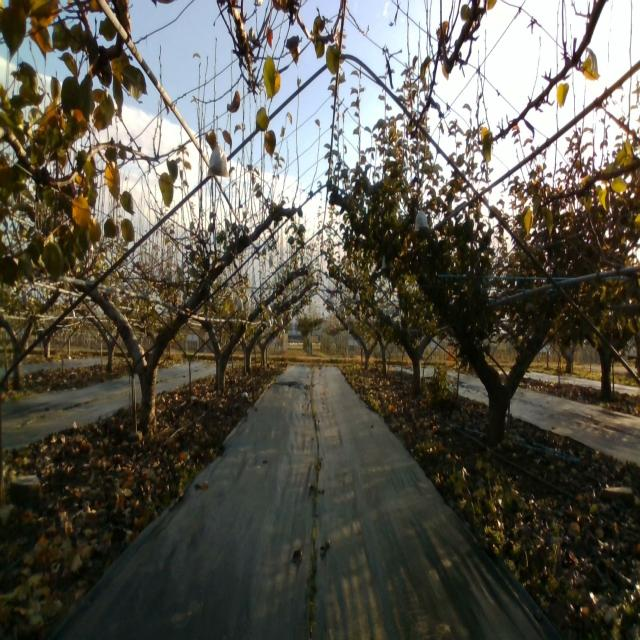pearbags: (207, 142, 230, 178), (414, 204, 429, 232)
